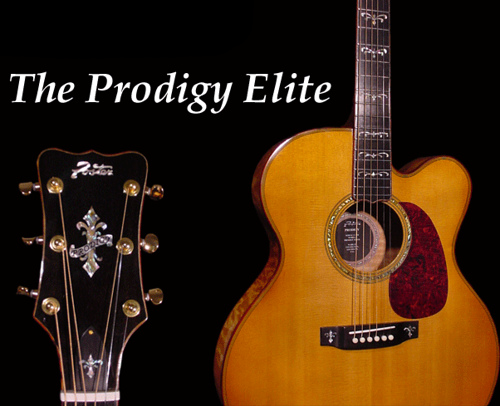guitar: (211, 1, 499, 406)
